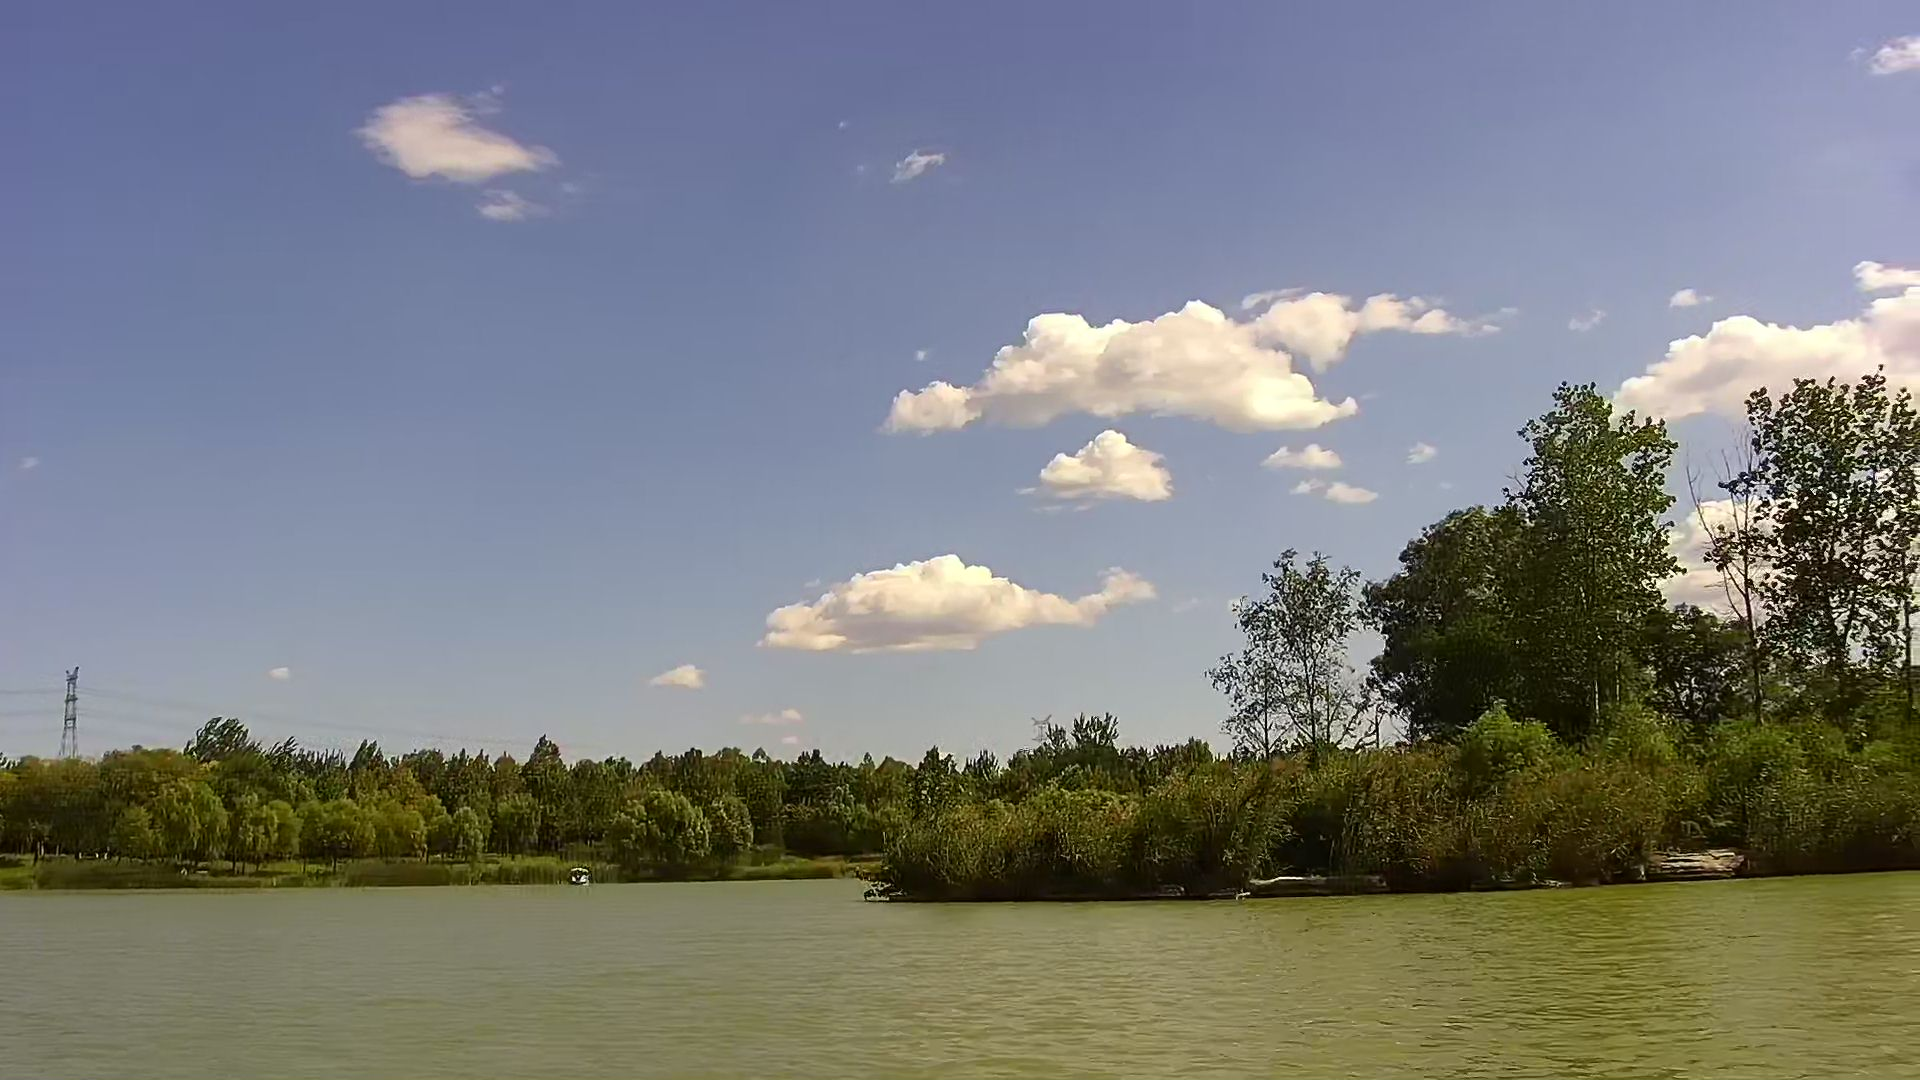boat: (563, 865, 592, 887)
